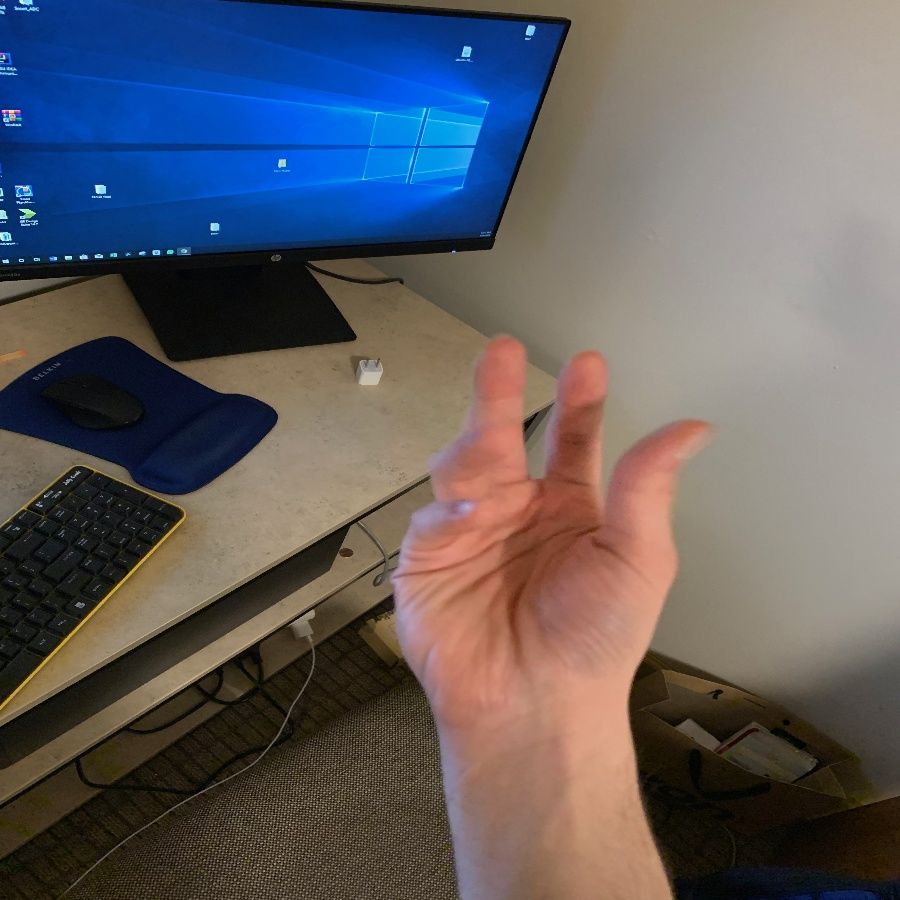tip: (627, 408, 724, 477), (473, 330, 530, 394), (554, 347, 612, 408), (452, 423, 516, 459), (427, 497, 485, 527)
